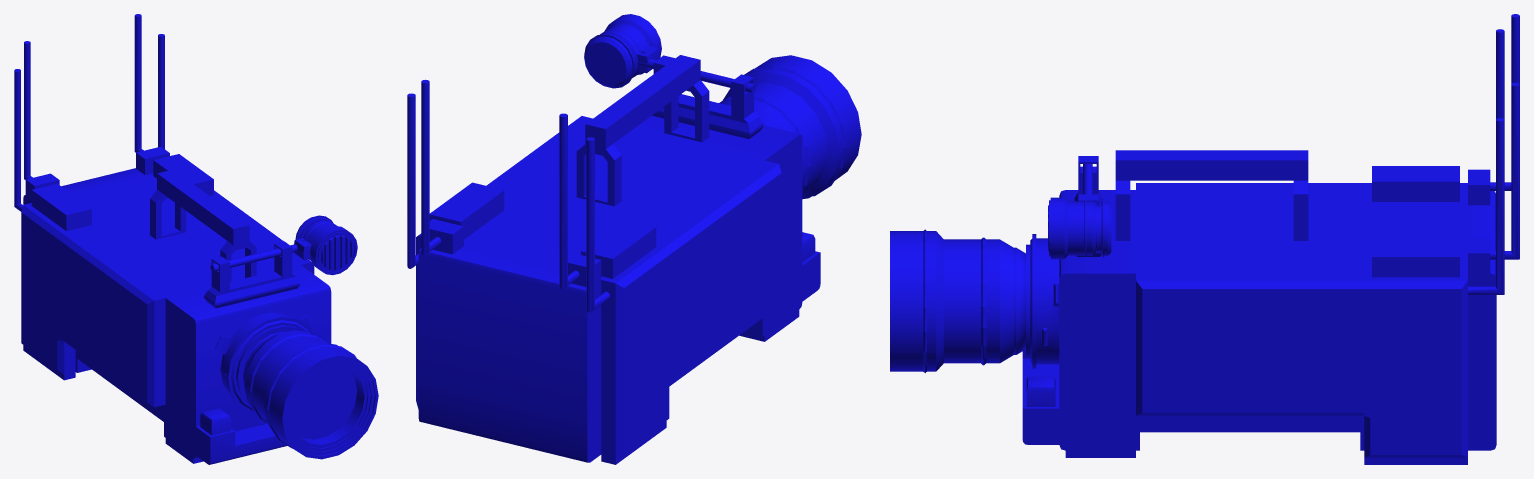
Rendered from Tutorial_Model_Environment_BackstageCameraHead.fbx.
3 views of the same model, side by side, from view 1: azimuth 30°, elevation 25°; view 2: azimuth 150°, elevation 25°; view 3: azimuth 270°, elevation 25° (orthographic). The views are drawn at different scales.
Visible parts, largest first — view 1: Camera; view 2: Camera; view 3: Camera.
Boxes of the visible parts, x1,y1,x2,y2 form: Camera: (14,14,378,464); Camera: (407,14,861,464); Camera: (890,14,1519,464).
Bounding box in the file's own units: 20.05 × 31.74 × 49.55.
